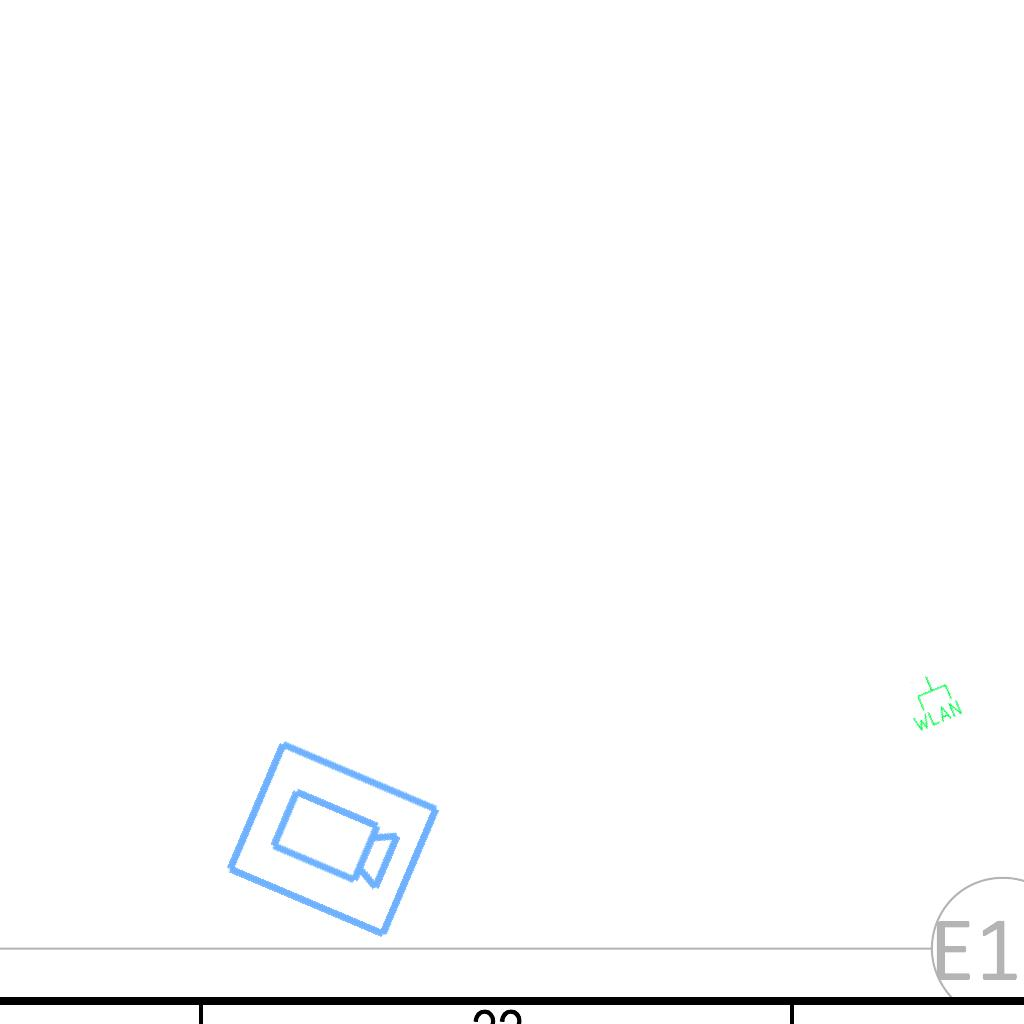KFO_Kamera_mit_Festobjektiv: (218, 733, 446, 947)
WLAN: (896, 666, 966, 736)
